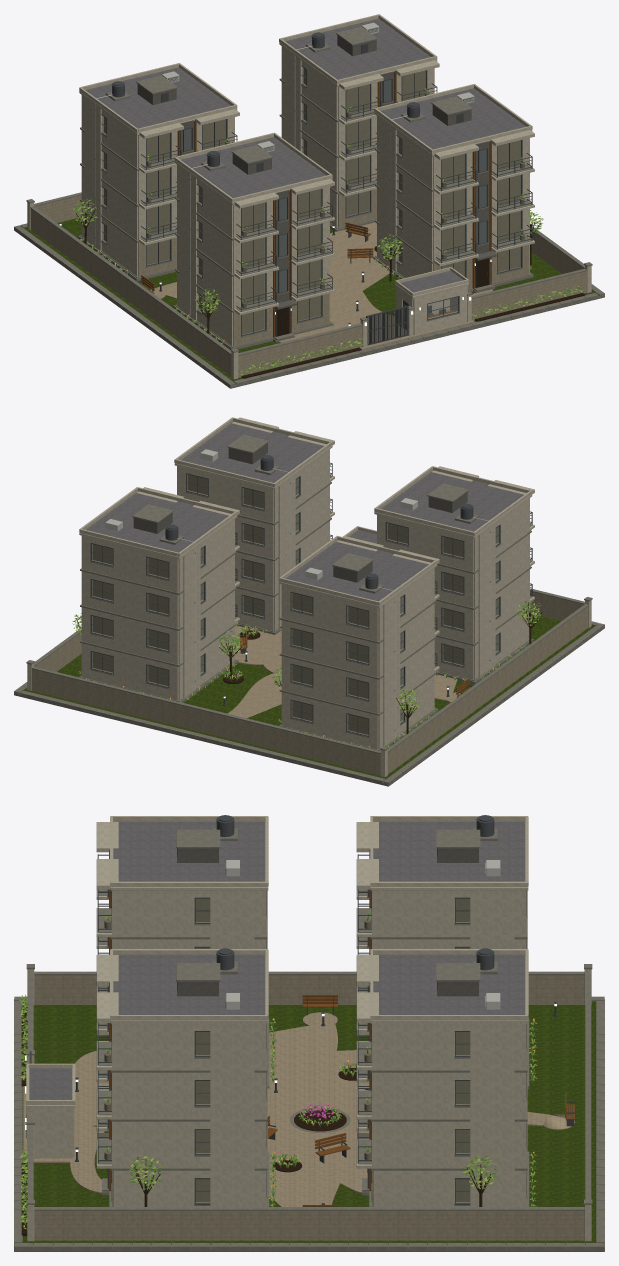
Rendered from conjunto_residencial.fbx.
3 views of the same model, one above another, from view 1: azimuth 30°, elevation 25°; view 2: azimuth 150°, elevation 25°; view 3: azimuth 270°, elevation 25° (orthographic). The views are drawn at different scales.
Visible parts, largest first — view 1: Areas_Comunes, Bloque_A, Bloque_B, Bloque_C, Bloque_D; view 2: Areas_Comunes, Bloque_D, Bloque_C, Bloque_A, Bloque_B; view 3: Areas_Comunes, Bloque_B, Bloque_D, Bloque_C, Bloque_A.
Part boxes in pixels (<box>): Areas_Comunes: <box>14,88,604,388</box>; Bloque_A: <box>174,132,334,347</box>; Bloque_B: <box>374,84,534,291</box>; Bloque_C: <box>79,63,239,277</box>; Bloque_D: <box>279,14,439,229</box>; Areas_Comunes: <box>14,526,604,786</box>; Bloque_D: <box>79,487,239,701</box>; Bloque_C: <box>279,536,439,750</box>; Bloque_A: <box>374,466,534,681</box>; Bloque_B: <box>174,417,334,632</box>; Areas_Comunes: <box>14,913,604,1251</box>; Bloque_B: <box>96,948,268,1206</box>; Bloque_D: <box>356,948,528,1206</box>; Bloque_C: <box>356,815,528,1040</box>; Bloque_A: <box>96,815,268,1040</box>.
Size of the model in its own units: 3000 by 1259 by 3000.
Materials: 24 (13 with a texture image).
